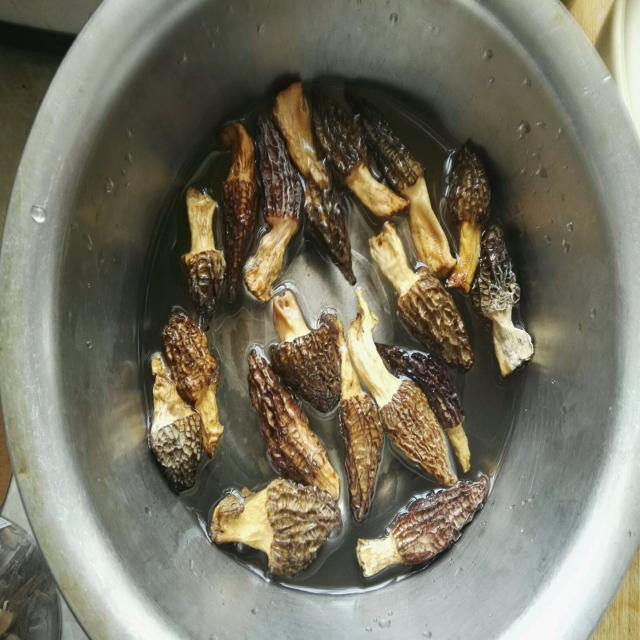Morchella esculenta: (323, 310, 453, 518), (309, 92, 456, 275), (271, 85, 355, 283), (367, 223, 476, 373), (251, 351, 341, 497), (354, 476, 485, 573), (212, 483, 336, 579), (473, 211, 536, 377), (244, 121, 301, 301), (146, 349, 200, 490), (273, 293, 338, 407), (446, 141, 487, 290), (180, 191, 229, 310)
